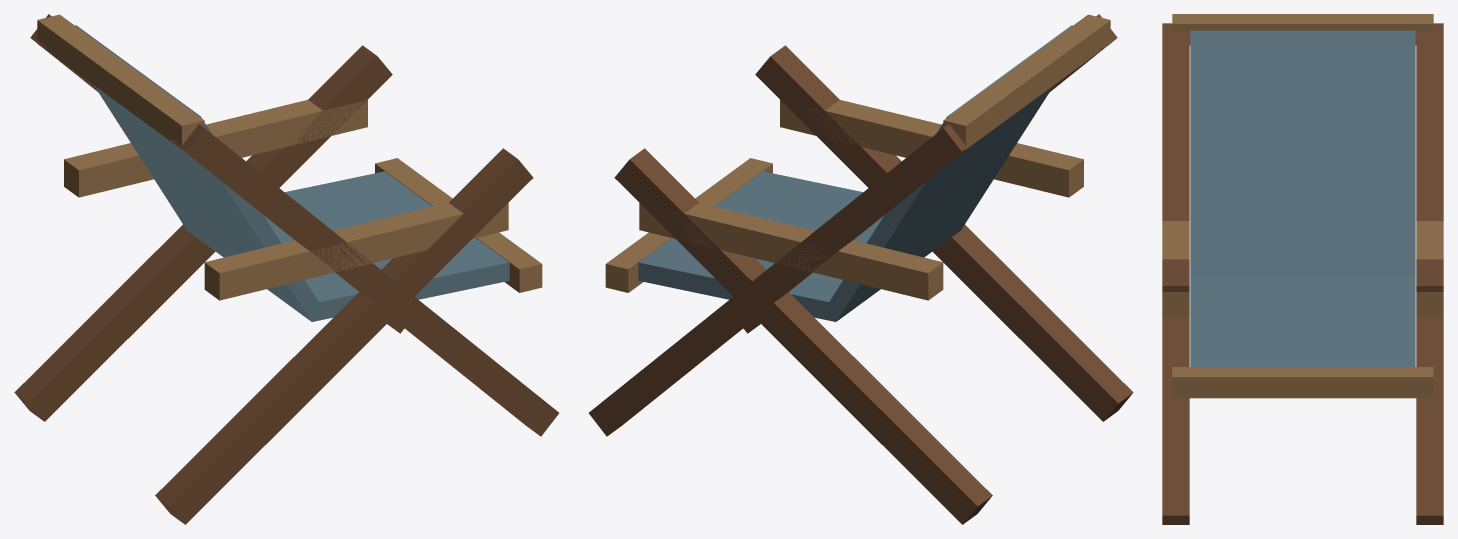
File: Prop_Daily_DeckChair_001_LOD1.glb
3 views of the same model, side by side, from view 1: azimuth 30°, elevation 25°; view 2: azimuth 150°, elevation 25°; view 3: azimuth 270°, elevation 25° (orthographic). The views are drawn at different scales.
Parts seen in each view (by area): view 1: Prop_Daily_DeckChair_001_LOD1; view 2: Prop_Daily_DeckChair_001_LOD1; view 3: Prop_Daily_DeckChair_001_LOD1.
Boxes of the visible parts, left/top/right/bottom form: Prop_Daily_DeckChair_001_LOD1: left=14, top=14, right=558, bottom=524; Prop_Daily_DeckChair_001_LOD1: left=589, top=14, right=1133, bottom=524; Prop_Daily_DeckChair_001_LOD1: left=1162, top=14, right=1443, bottom=524.
Size of the model in its own units: 1.12 by 1.08 by 0.775.
